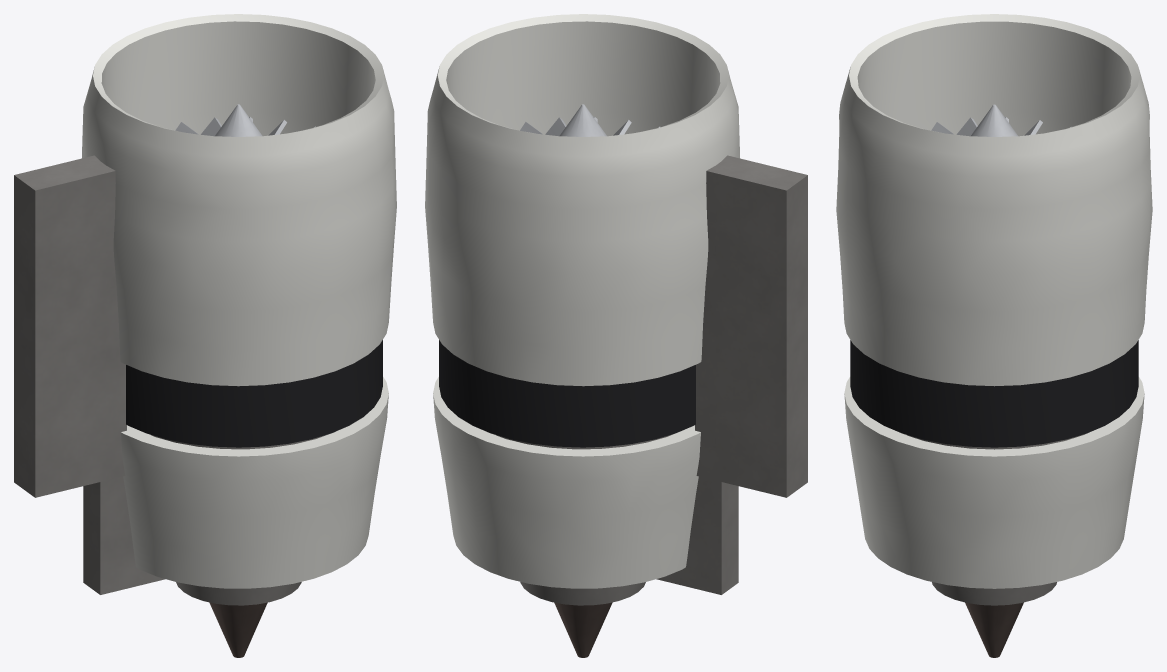
Rendered from jet01_turbofan_reverser.glb.
3 renders of one model, left to right at view 1: azimuth 30°, elevation 25°; view 2: azimuth 150°, elevation 25°; view 3: azimuth 270°, elevation 25°, orthographic.
Parts seen in each view (by area): view 1: fan_cowl, pylon, reverser_sleeve, cascade, core_cowl, exhaust_plug, spinner; view 2: fan_cowl, pylon, reverser_sleeve, cascade, core_cowl, exhaust_plug, spinner; view 3: fan_cowl, reverser_sleeve, cascade, core_cowl, exhaust_plug, spinner, fan.
Boxes of the visible parts, x1,y1,x2,y2 form: fan_cowl: (81,14,396,386); pylon: (14,155,165,594); reverser_sleeve: (121,377,388,588); cascade: (126,340,382,447); core_cowl: (151,435,325,605); exhaust_plug: (209,602,267,657); spinner: (215,104,262,136); fan_cowl: (425,14,740,386); pylon: (656,155,807,594); reverser_sleeve: (433,377,700,588); cascade: (439,340,695,447); core_cowl: (496,435,670,605); exhaust_plug: (554,602,612,657); spinner: (559,104,606,136); fan_cowl: (836,14,1152,386); reverser_sleeve: (844,377,1144,588); cascade: (850,340,1138,447); core_cowl: (907,435,1081,605); exhaust_plug: (965,602,1023,657); spinner: (971,104,1017,136); fan: (931,116,1070,136).
Size of the model in its own units: 2.87 by 4.53 by 2.24.
Materials: 5 (3 with a texture image).
